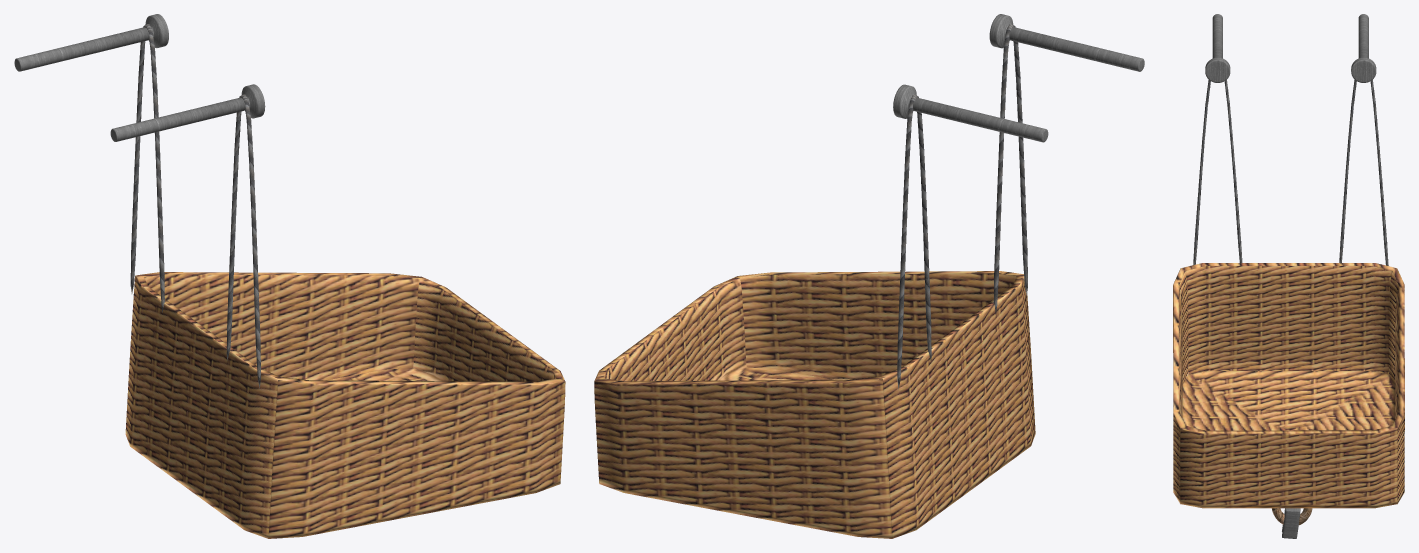
Rendered from Outbox.fbx.
The picture shows the model from 3 angles, left to right: view 1: azimuth 30°, elevation 25°; view 2: azimuth 150°, elevation 25°; view 3: azimuth 270°, elevation 25°; orthographic projection. The views are drawn at different scales.
Parts seen in each view (by area): view 1: pasted__pCylinder1; view 2: pasted__pCylinder1; view 3: pasted__pCylinder1.
Part boxes in pixels (x1=…): pasted__pCylinder1: x1=14, y1=14, x2=565, y2=538; pasted__pCylinder1: x1=594, y1=14, x2=1144, y2=538; pasted__pCylinder1: x1=1173, y1=14, x2=1404, y2=538.
Bounding box in the file's own units: 54.59 × 61.01 × 33.02.
